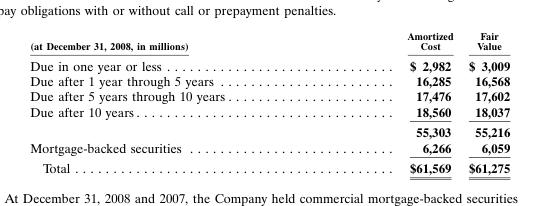table: (29, 29, 509, 175)
table column: (29, 29, 315, 175), (315, 29, 460, 175), (460, 29, 509, 175)
table column header: (29, 29, 509, 54)
table row: (29, 29, 509, 54), (29, 54, 509, 72), (29, 103, 509, 121), (29, 121, 509, 139), (29, 139, 509, 157), (29, 157, 509, 175), (29, 72, 509, 88), (29, 88, 509, 103)
